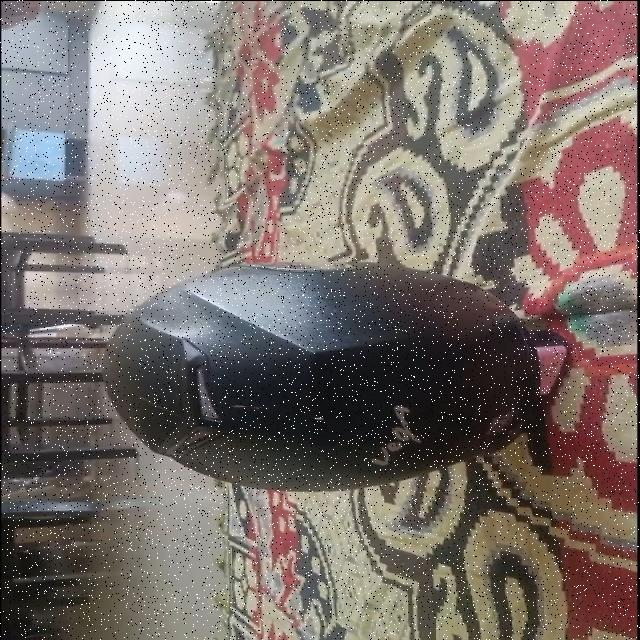Helmet: (103, 260, 545, 491)
